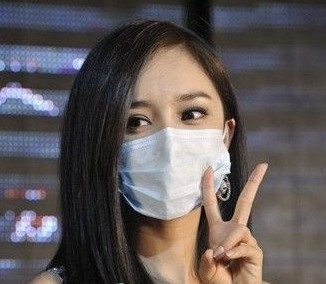face_mask: (117, 55, 224, 220)
